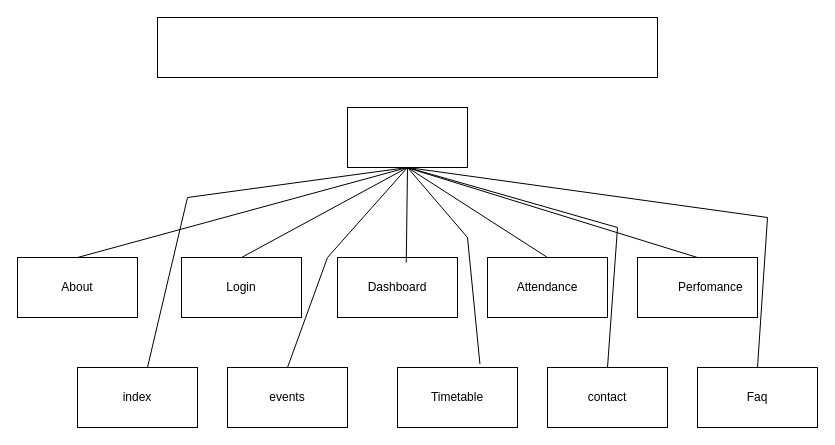
The diagram is 835 pixels wide and 445 high, and some of its shapes have lost their labels. The shapes that lost their labels are listed below. From the top down, each one's centre as x and y in pixels, then its label:
At pixel 407 47: "student hub portal wireframe".
At pixel 407 137: "student hub portal".
